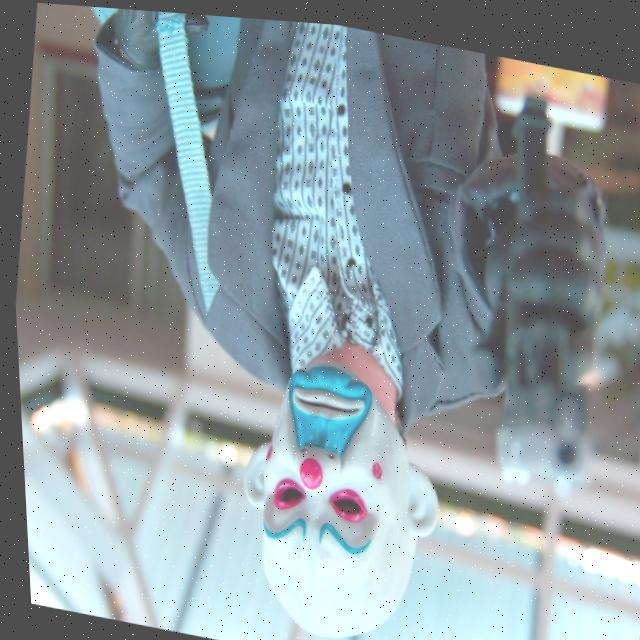pistol: (482, 310, 597, 490)
